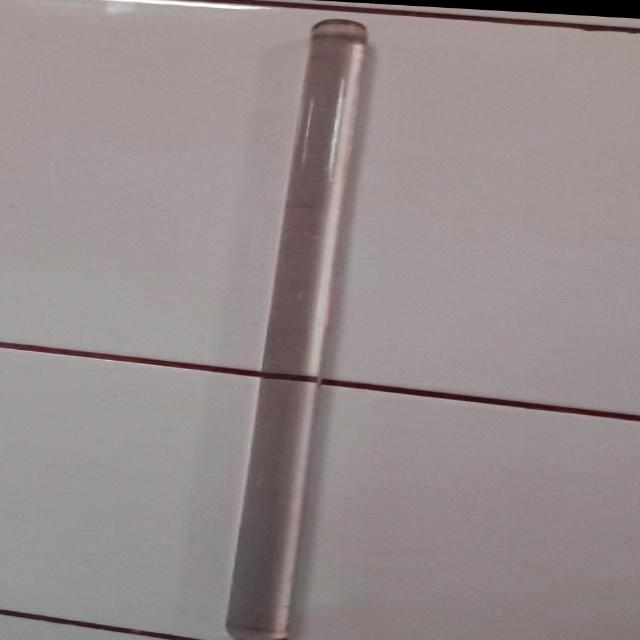Stirrer: (224, 11, 380, 640)
